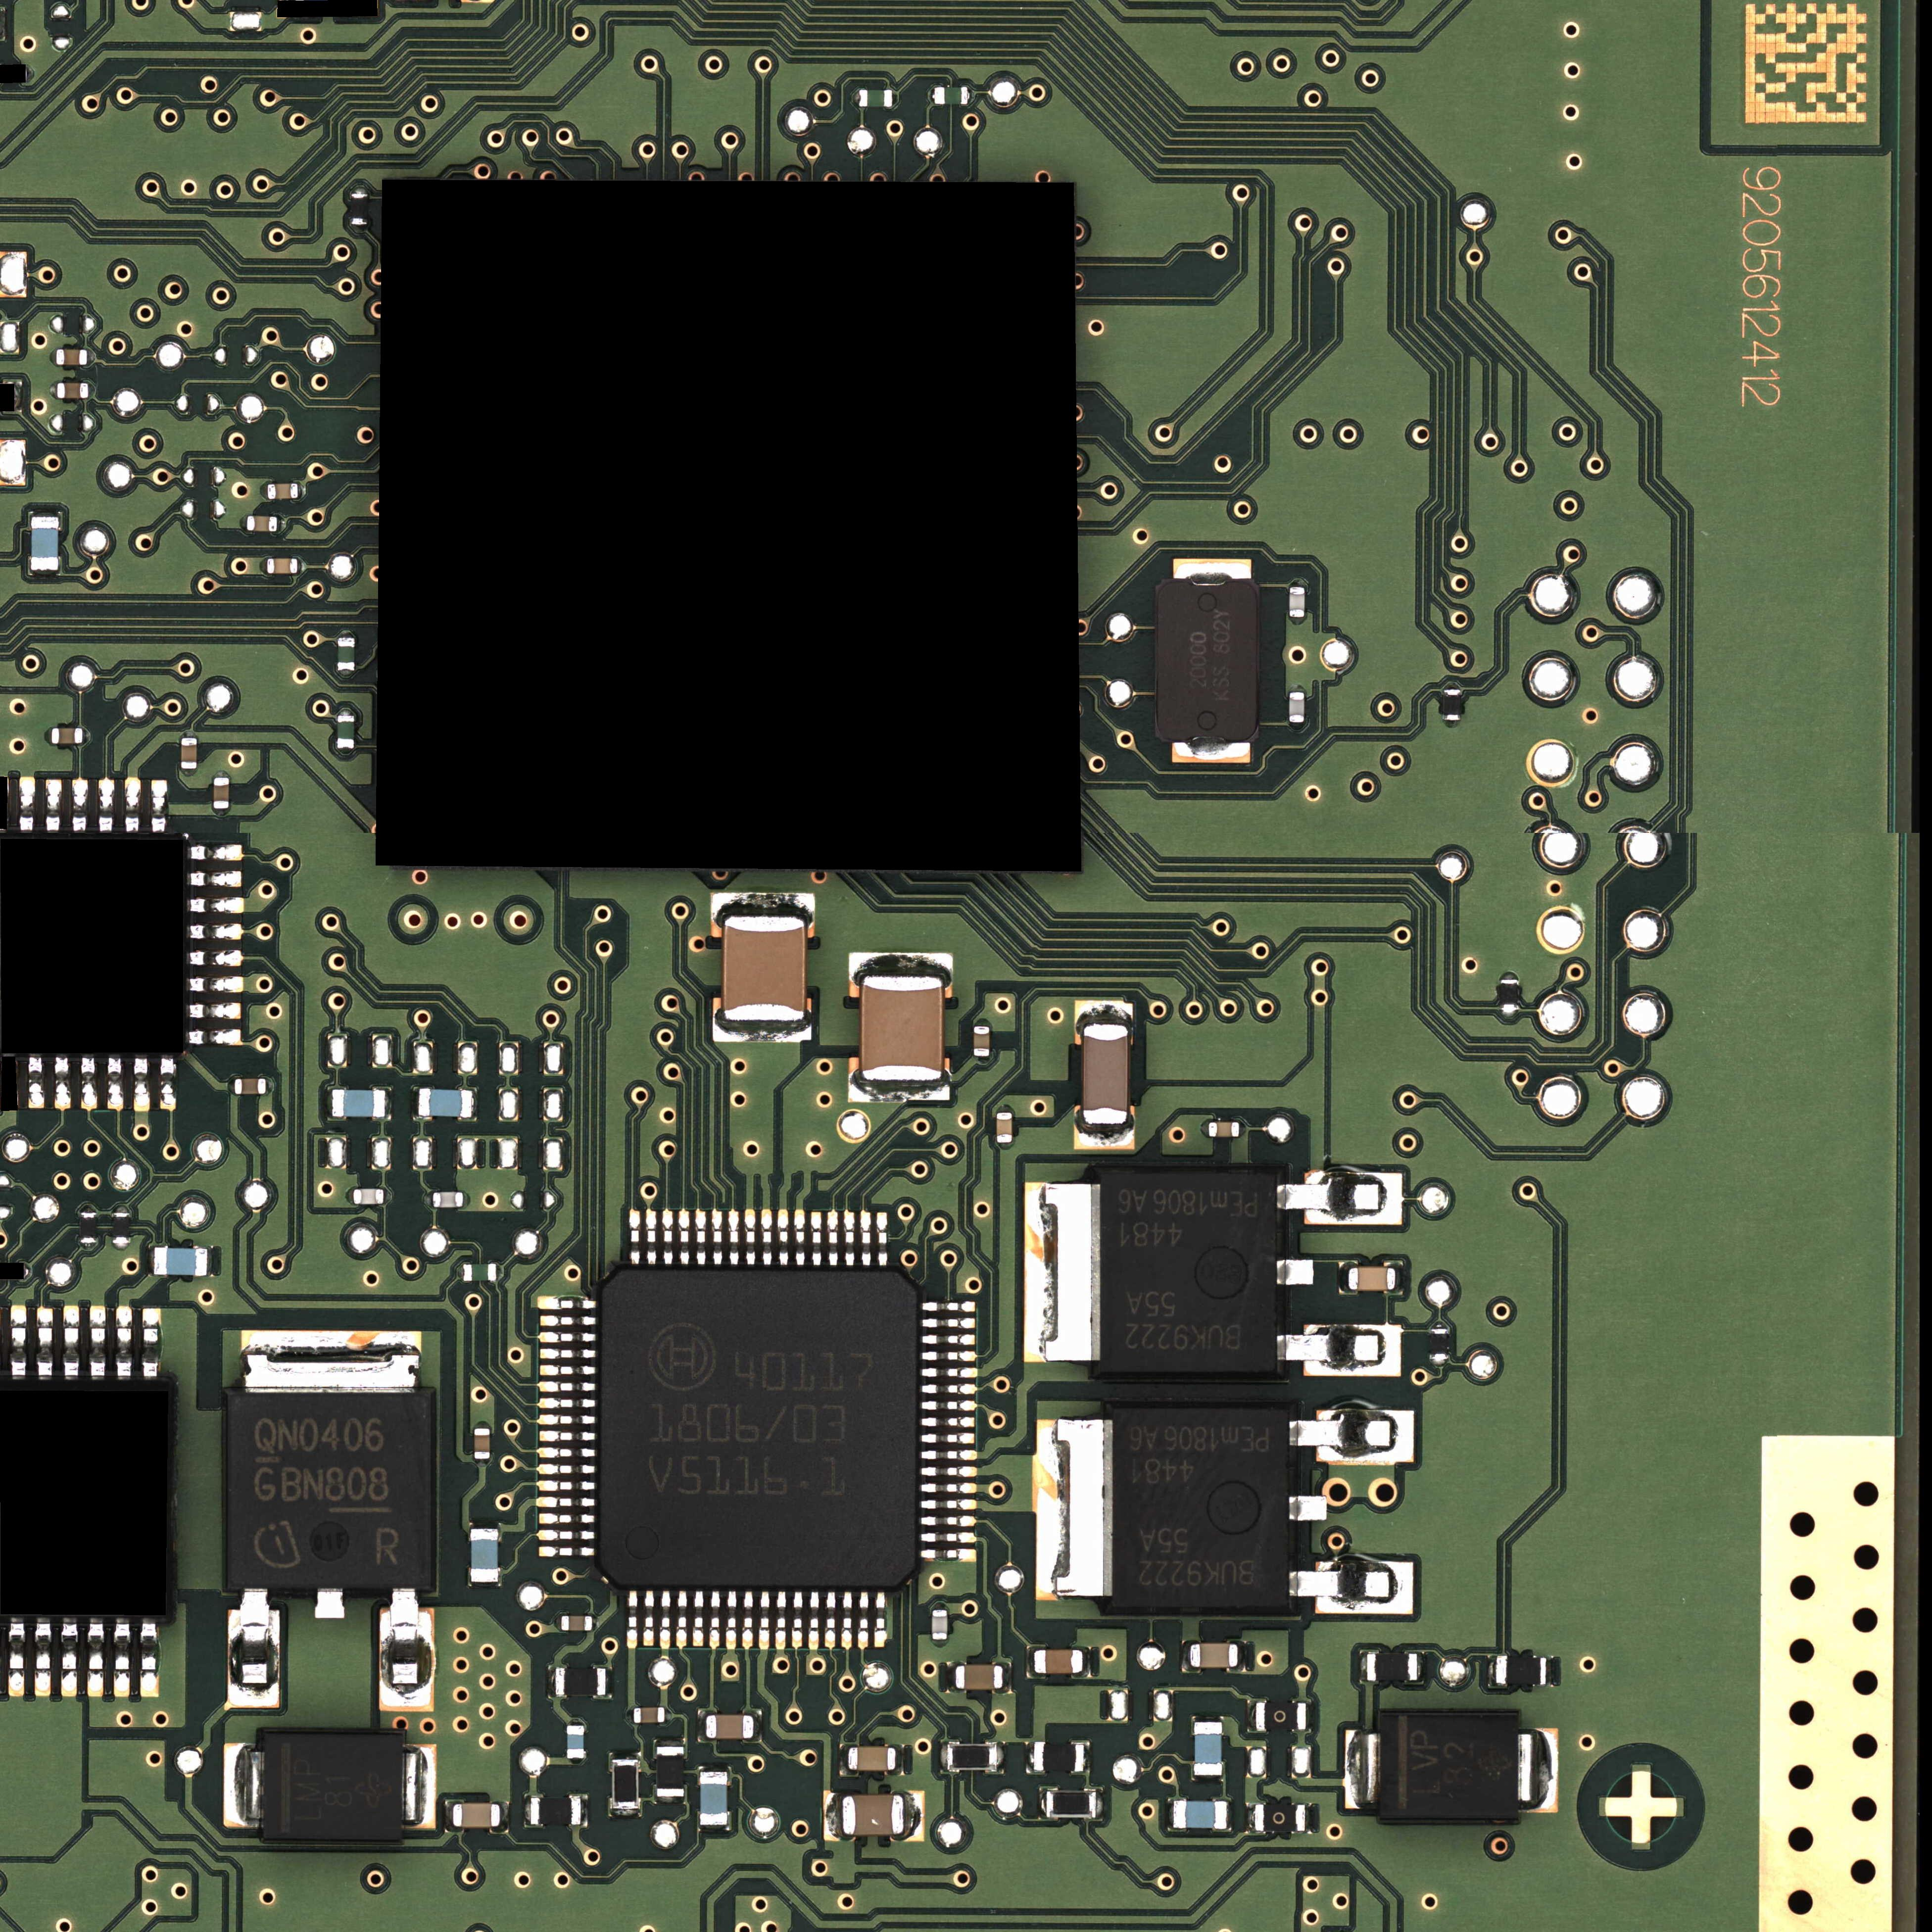Package: (600, 1269, 916, 1587), (228, 1394, 433, 1589), (1100, 1171, 1277, 1373), (1113, 1407, 1288, 1608), (1157, 580, 1258, 740), (1380, 1713, 1520, 1821), (265, 1732, 402, 1842), (722, 916, 807, 1021), (860, 977, 945, 1081), (1083, 1024, 1129, 1125), (842, 1794, 904, 1835), (418, 1088, 472, 1116), (1495, 1656, 1546, 1686), (154, 1247, 207, 1276), (1194, 1721, 1223, 1775), (1366, 1652, 1417, 1681), (32, 517, 58, 570), (1173, 1801, 1226, 1828), (333, 1090, 386, 1116), (471, 1529, 497, 1582), (1256, 1702, 1306, 1730), (1033, 1743, 1083, 1771), (556, 1668, 605, 1697), (656, 1746, 685, 1796), (531, 1798, 580, 1826), (701, 1773, 727, 1824), (1046, 1792, 1097, 1819), (1254, 1805, 1306, 1831), (947, 1744, 996, 1771), (612, 1760, 639, 1808), (453, 1803, 501, 1828), (847, 1746, 895, 1771), (706, 1714, 754, 1739), (1035, 1649, 1083, 1674), (955, 1665, 1003, 1690), (1191, 1644, 1238, 1668), (1348, 1267, 1396, 1290), (934, 87, 968, 104), (338, 715, 356, 748), (858, 90, 892, 108), (464, 1263, 497, 1281), (338, 637, 356, 671), (1500, 980, 1518, 1012), (1431, 1329, 1449, 1361), (568, 1725, 584, 1759), (1444, 690, 1461, 720), (350, 195, 368, 225), (51, 727, 83, 743), (633, 1707, 665, 1723), (561, 1615, 593, 1631), (474, 1428, 490, 1460), (57, 349, 87, 364), (354, 1189, 384, 1205), (58, 382, 88, 398), (81, 1212, 97, 1242), (996, 1113, 1012, 1143), (267, 483, 297, 499), (180, 738, 196, 768), (1290, 587, 1306, 617), (113, 1214, 129, 1244), (932, 1610, 947, 1640), (1208, 1122, 1238, 1136), (214, 778, 228, 809), (235, 1079, 265, 1093), (267, 559, 297, 573), (975, 1026, 989, 1056), (433, 1192, 464, 1207), (1290, 692, 1304, 722), (248, 517, 276, 531)
Solder: (1035, 1417, 1113, 1596), (1024, 1182, 1100, 1361), (242, 1330, 421, 1394), (1290, 1405, 1414, 1465), (1290, 1557, 1414, 1615), (379, 1591, 435, 1713), (1277, 1322, 1403, 1376), (1277, 1171, 1403, 1226), (228, 1589, 280, 1707), (223, 1743, 265, 1829), (1518, 1727, 1559, 1813), (403, 1744, 437, 1831), (1345, 1730, 1380, 1810), (849, 952, 954, 977), (711, 893, 816, 916), (847, 1081, 950, 1102), (711, 1021, 812, 1042), (1171, 740, 1251, 763), (1173, 559, 1253, 580), (1074, 1000, 1132, 1023), (1076, 1125, 1134, 1148), (9, 1617, 25, 1697), (35, 1617, 51, 1697), (62, 1617, 78, 1697), (88, 1617, 104, 1697), (115, 1617, 131, 1697), (142, 1617, 157, 1697), (143, 1299, 159, 1378), (117, 1299, 133, 1378), (90, 1299, 106, 1378), (64, 1299, 80, 1378), (37, 1299, 53, 1378), (11, 1299, 27, 1378), (1290, 1495, 1327, 1522), (44, 777, 62, 832), (106, 1056, 124, 1111), (159, 1058, 177, 1111), (133, 1058, 150, 1111), (1277, 1260, 1315, 1284), (906, 1792, 924, 1842), (824, 1792, 842, 1842), (18, 777, 34, 832), (71, 777, 87, 832), (97, 777, 113, 832), (124, 777, 140, 832), (150, 777, 166, 832), (80, 1056, 96, 1111), (55, 1056, 71, 1111), (28, 1056, 44, 1111), (315, 1591, 345, 1619), (536, 1295, 596, 1309), (189, 846, 241, 862), (191, 899, 242, 915), (191, 924, 242, 939), (191, 1028, 242, 1044), (189, 950, 241, 966), (536, 1463, 596, 1476), (536, 1497, 596, 1509), (536, 1398, 596, 1410), (725, 1591, 738, 1651), (824, 1591, 837, 1651), (775, 1591, 787, 1651), (189, 872, 241, 886), (189, 977, 241, 991), (191, 1003, 242, 1017), (920, 1449, 978, 1461), (920, 1384, 978, 1396), (920, 1465, 978, 1477), (920, 1366, 978, 1378), (538, 1513, 596, 1525), (626, 1591, 639, 1649), (676, 1591, 688, 1649), (761, 1208, 773, 1267), (920, 1350, 977, 1362), (920, 1399, 977, 1412), (920, 1499, 977, 1511), (920, 1548, 977, 1560), (540, 1315, 596, 1327), (826, 1210, 839, 1267), (540, 1364, 596, 1376), (727, 1210, 740, 1267), (678, 1208, 690, 1265), (810, 1212, 823, 1267), (874, 1592, 886, 1647), (536, 1382, 596, 1392), (536, 1447, 596, 1458), (536, 1481, 596, 1491), (743, 1591, 754, 1651), (809, 1591, 819, 1651), (536, 1415, 596, 1426), (759, 1591, 770, 1651), (920, 1483, 978, 1493), (536, 1530, 594, 1541), (538, 1332, 596, 1343), (709, 1591, 720, 1649), (745, 1208, 755, 1267), (793, 1591, 803, 1649), (842, 1591, 853, 1649), (778, 1208, 789, 1267), (660, 1591, 671, 1649), (920, 1318, 977, 1329), (920, 1334, 977, 1345), (920, 1532, 977, 1543), (538, 1546, 594, 1557), (920, 1516, 977, 1527), (540, 1348, 596, 1359), (540, 1431, 596, 1442), (694, 1591, 704, 1647), (844, 1210, 855, 1267), (662, 1208, 672, 1265), (630, 1208, 640, 1265), (858, 1592, 869, 1649), (695, 1208, 706, 1265), (794, 1210, 805, 1267), (860, 1210, 870, 1267), (644, 1591, 655, 1647), (922, 1302, 977, 1313), (920, 1417, 975, 1428), (920, 1433, 975, 1444), (878, 1212, 888, 1267), (646, 1210, 656, 1265), (711, 1210, 722, 1265), (945, 1661, 955, 1693), (895, 1744, 906, 1775), (28, 570, 64, 579), (609, 1808, 642, 1817), (1339, 1261, 1348, 1293), (754, 1711, 763, 1743), (839, 1743, 847, 1775), (1095, 1789, 1104, 1821), (1026, 1645, 1035, 1677), (697, 1709, 706, 1741), (207, 1246, 216, 1277), (1003, 1661, 1012, 1691), (501, 1801, 510, 1831), (1182, 1642, 1191, 1672), (996, 1743, 1005, 1773), (1083, 1647, 1092, 1677), (1306, 1700, 1315, 1730), (1546, 1656, 1555, 1686), (655, 1796, 685, 1805), (1246, 1803, 1254, 1833), (699, 1824, 729, 1833), (1238, 1642, 1247, 1670), (1306, 1805, 1315, 1833), (27, 510, 62, 517), (547, 1665, 554, 1698), (1247, 1700, 1254, 1732), (1396, 1261, 1403, 1293), (1039, 1787, 1046, 1819), (1488, 1654, 1495, 1686), (1359, 1651, 1366, 1683), (446, 1799, 453, 1831), (469, 1522, 501, 1529), (412, 1086, 419, 1118), (655, 1739, 685, 1746), (1192, 1714, 1223, 1721), (1026, 1743, 1033, 1773), (610, 1752, 640, 1759), (582, 1796, 589, 1826), (1417, 1652, 1424, 1683), (607, 1667, 614, 1697), (524, 1796, 531, 1826), (326, 1088, 333, 1118), (939, 1741, 947, 1771), (147, 1246, 154, 1276), (471, 1583, 501, 1591), (1085, 1743, 1092, 1773), (16, 382, 23, 412), (1226, 1801, 1233, 1829), (1168, 1798, 1173, 1829), (386, 1088, 391, 1120), (472, 1088, 478, 1120), (1192, 1776, 1223, 1782), (699, 1766, 729, 1771), (1444, 681, 1461, 690), (350, 186, 368, 195), (350, 225, 368, 234), (27, 65, 35, 83), (1290, 579, 1306, 587), (1431, 1359, 1447, 1368), (1431, 1320, 1447, 1329), (566, 1718, 586, 1725), (472, 1421, 492, 1428), (932, 1601, 947, 1610), (212, 809, 230, 816), (347, 1187, 354, 1205), (892, 90, 899, 108), (83, 727, 90, 745), (338, 671, 356, 678), (44, 727, 51, 745), (80, 1242, 97, 1249), (1500, 973, 1518, 980), (1444, 720, 1461, 727), (336, 630, 354, 637), (1500, 1012, 1518, 1019), (384, 1189, 391, 1205), (626, 1707, 633, 1723), (338, 708, 354, 715), (975, 1056, 991, 1063), (1201, 1122, 1208, 1138), (1290, 617, 1306, 625), (338, 748, 354, 755), (81, 1205, 97, 1212), (180, 768, 196, 775), (214, 771, 230, 778), (1290, 724, 1306, 731), (51, 382, 58, 398), (241, 515, 248, 531), (113, 1207, 129, 1214), (1238, 1122, 1246, 1138), (260, 557, 267, 573), (426, 1192, 433, 1208), (50, 349, 57, 364), (88, 349, 96, 364), (88, 382, 96, 398), (996, 1106, 1012, 1113), (113, 1244, 129, 1251), (25, 1263, 32, 1279), (566, 1759, 586, 1764), (228, 1079, 235, 1093), (464, 1192, 471, 1207), (265, 1079, 272, 1093), (975, 1019, 989, 1026), (1290, 685, 1304, 692), (968, 87, 973, 104), (497, 1263, 502, 1281), (556, 1614, 561, 1631), (262, 483, 267, 499), (474, 1460, 490, 1465), (665, 1707, 671, 1723), (853, 90, 858, 106), (932, 1640, 948, 1645), (180, 732, 196, 738), (929, 87, 934, 103), (278, 517, 283, 533), (299, 483, 304, 499), (456, 1265, 462, 1281), (593, 1615, 598, 1631), (297, 559, 303, 573), (998, 1143, 1012, 1148)
